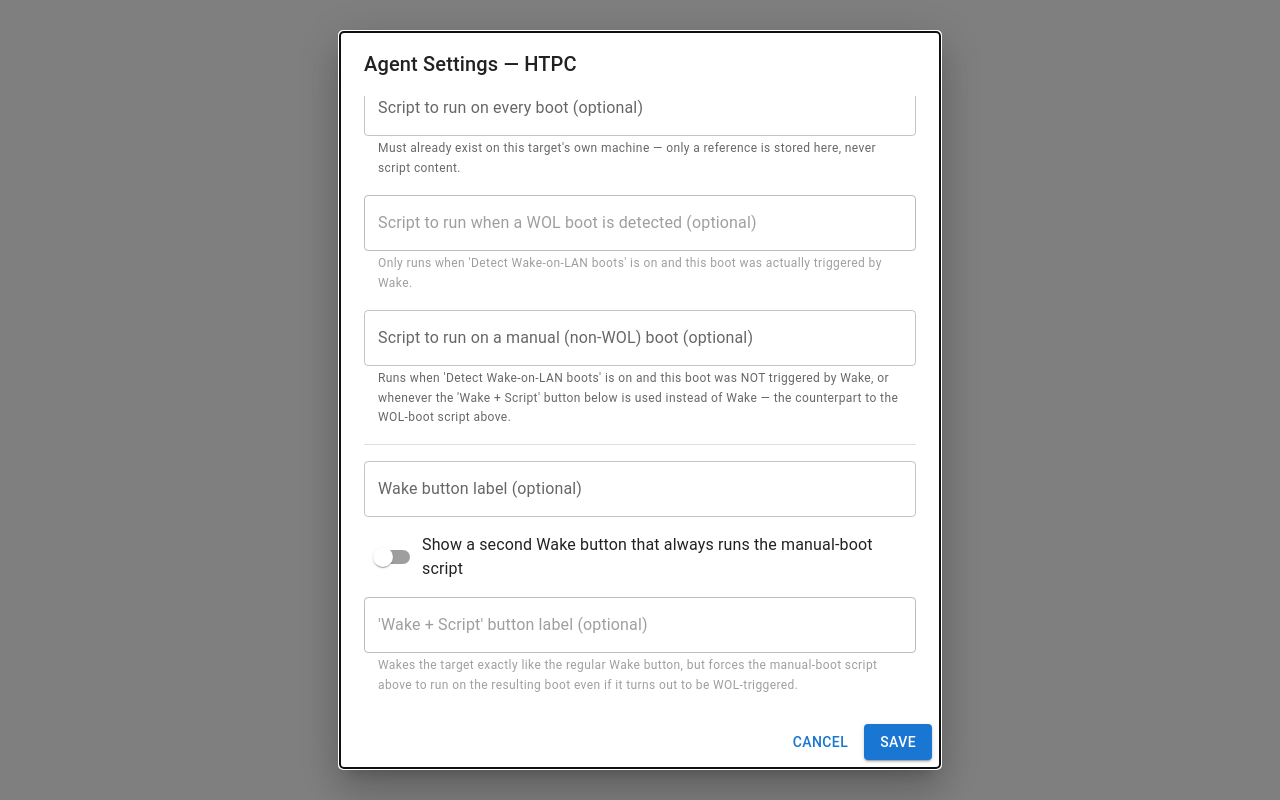
Test: AgentConfigDialog › disables the 'Wake + Script' label field until the feature switch is on
(page scrolled)
Expected: the field labelled "'Wake + Script' button label (optional)" is disabled, [364, 597, 916, 653]
Step 1. Click the switch labelled "Show a second Wake button" → click(640, 557), box [364, 533, 916, 581]
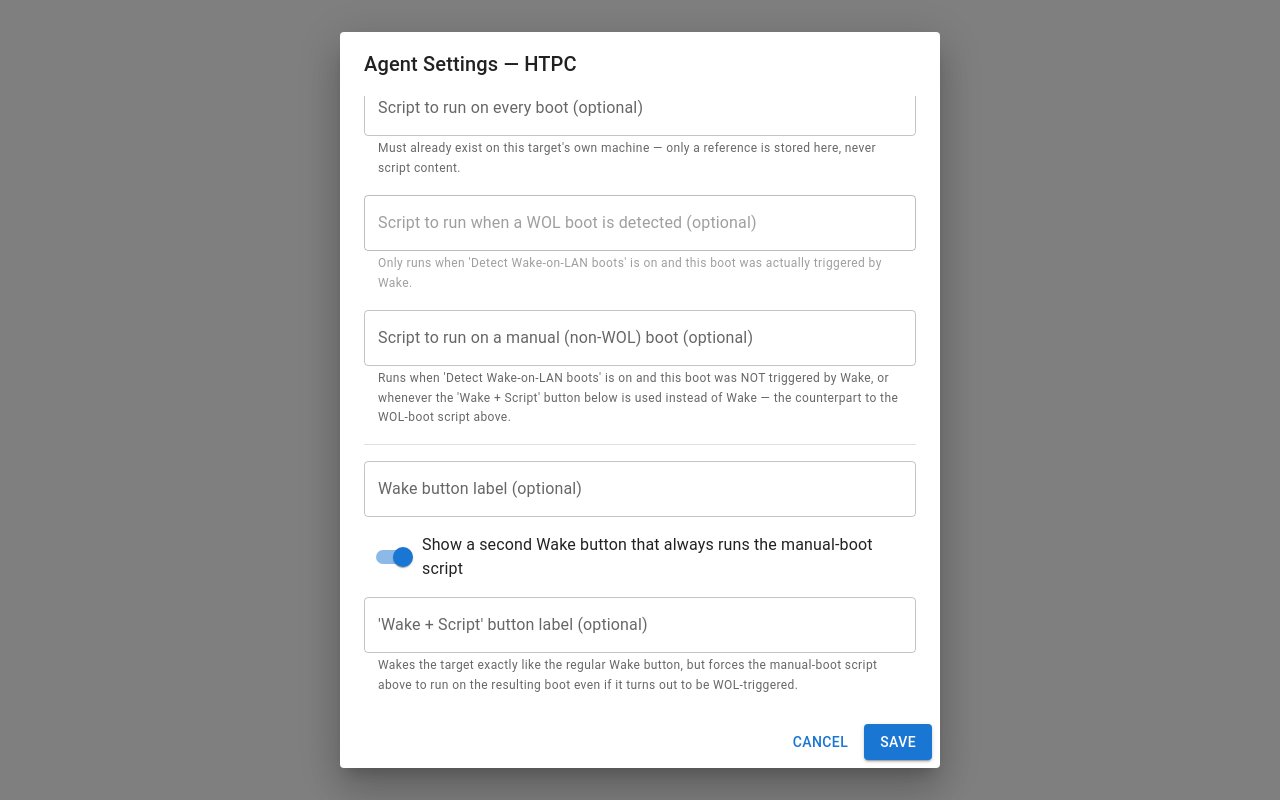
Expected: the field labelled "'Wake + Script' button label (optional)" is enabled, [364, 597, 916, 653]
